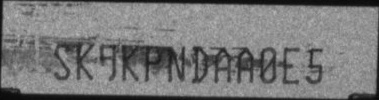0: (259, 46, 276, 84)
5: (305, 46, 324, 85)
9: (98, 43, 117, 81)
A: (236, 45, 255, 85), (213, 45, 232, 84)
D: (192, 44, 210, 83)
E: (282, 46, 300, 84)
K: (75, 41, 94, 81), (121, 43, 141, 81)
N: (167, 45, 185, 84)
P: (143, 44, 163, 82)
S: (53, 43, 71, 81)
